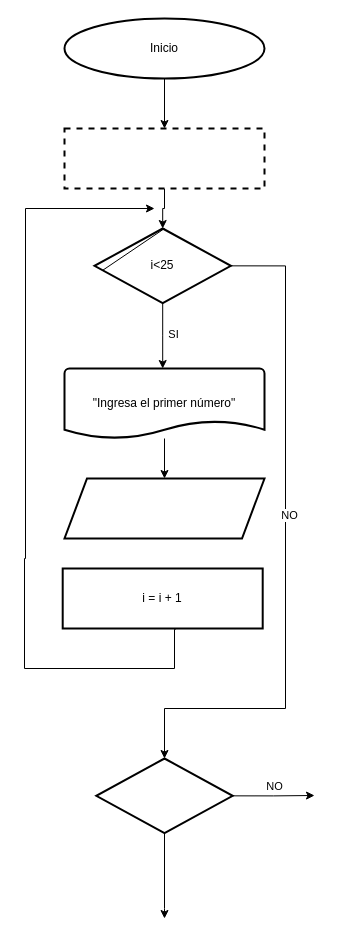
This 340x944 diagram has some shape labels left out. Here are the shapes that lost their labels. From the top down, the centre of each, then its label:
At pixel 164 158: "Números = [] i=0".
At pixel 164 508: "Números [i]".
